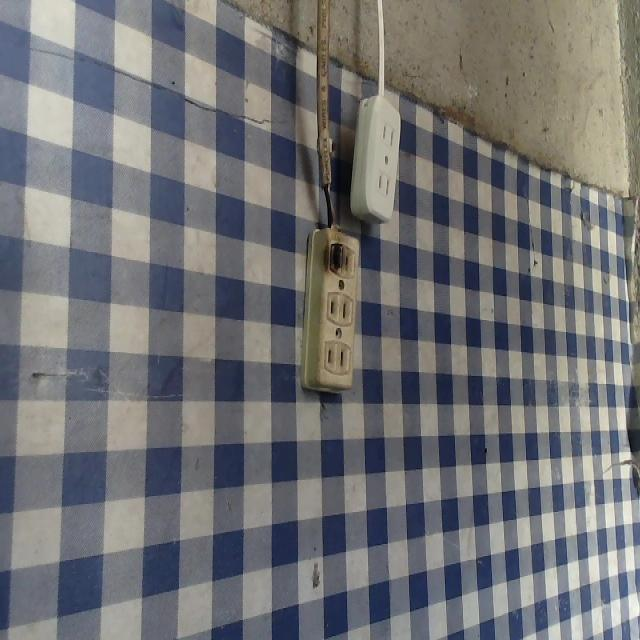-: (324, 228, 348, 277)
